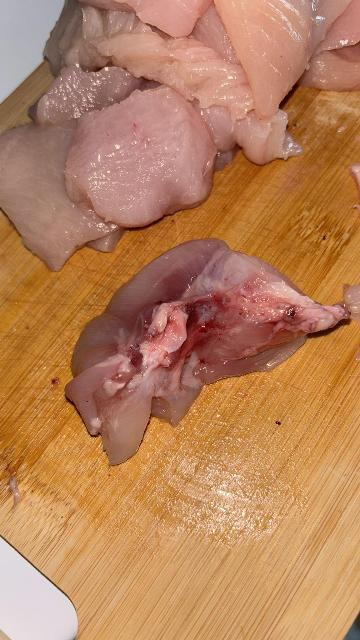Organik: (39, 250, 348, 448), (75, 98, 220, 220), (0, 123, 122, 242), (222, 0, 314, 120), (311, 0, 359, 103)
